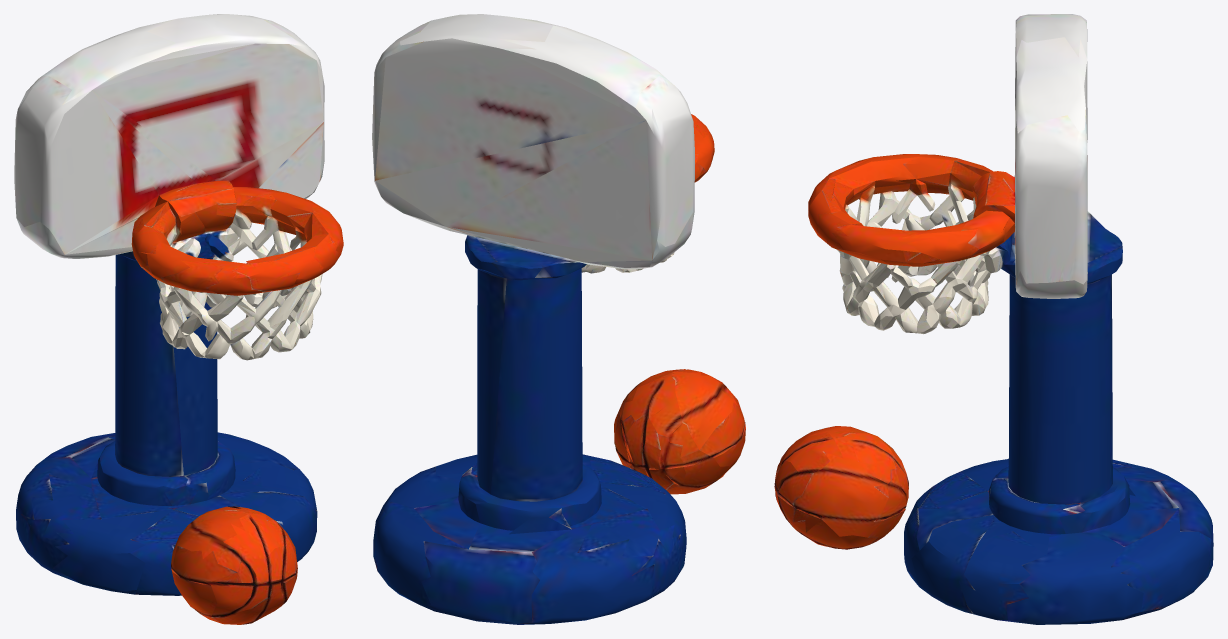
Rendered from cy-basket.glb.
3 views of the same model, side by side, from view 1: azimuth 30°, elevation 25°; view 2: azimuth 150°, elevation 25°; view 3: azimuth 270°, elevation 25° (orthographic). The views are drawn at different scales.
Size of the model in its own units: 1.12 by 1.9 by 1.46.
Materials: 1 (1 with a texture image).
